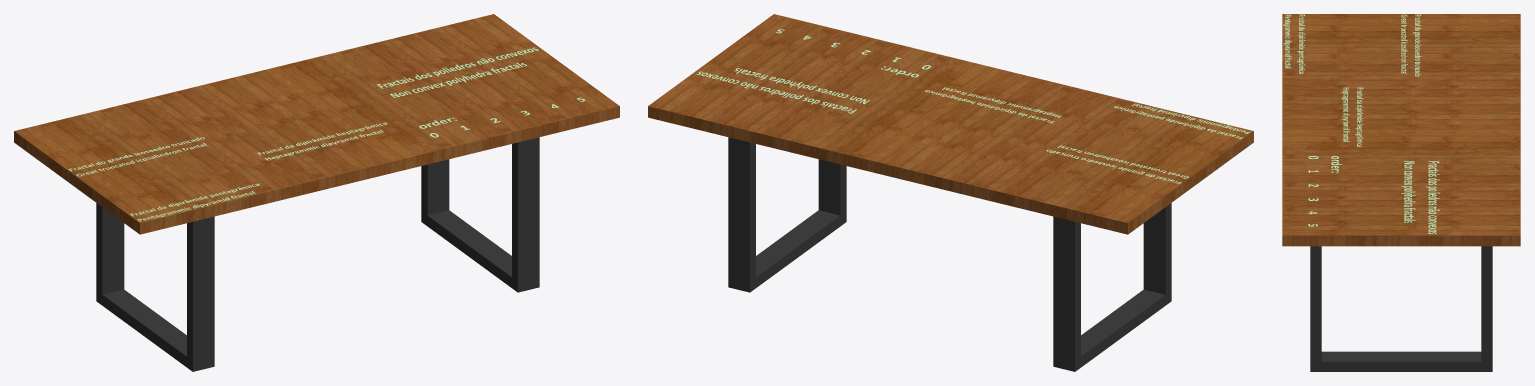
File: fractal_nonconvex5a.glb
3 views of the same model, side by side, from view 1: azimuth 30°, elevation 25°; view 2: azimuth 150°, elevation 25°; view 3: azimuth 270°, elevation 25° (orthographic). The views are drawn at different scales.
Parts seen in each view (by area): view 1: object 1, Composant#1 (×2), Fractais dos pol#1, Fractal do grand#5, Fractal da dipir#2, Fractal da dipir#1; view 2: object 1, Composant#1 (×2), Fractais dos pol#1, Fractal da dipir#1, Fractal do grand#5, Fractal da dipir#2; view 3: object 1, Composant#1, Fractais dos pol#1, Fractal do grand#5, Fractal da dipir#2, Fractal da dipir#1.
Boxes of the visible parts, <box> form: object 1: <box>14,14,619,234</box>; Composant#1 (×2): <box>96,137,539,371</box>; Fractais dos pol#1: <box>377,47,538,97</box>; Fractal do grand#5: <box>68,137,206,176</box>; Fractal da dipir#2: <box>257,122,387,160</box>; Fractal da dipir#1: <box>130,183,259,221</box>; object 1: <box>648,14,1253,234</box>; Composant#1 (×2): <box>728,137,1171,371</box>; Fractais dos pol#1: <box>696,68,869,113</box>; Fractal da dipir#1: <box>1114,103,1250,139</box>; Fractal do grand#5: <box>1046,145,1188,184</box>; Fractal da dipir#2: <box>925,87,1061,123</box>; object 1: <box>1282,14,1520,246</box>; Composant#1: <box>1310,246,1492,371</box>; Fractais dos pol#1: <box>1401,161,1439,233</box>; Fractal do grand#5: <box>1401,14,1421,76</box>; Fractal da dipir#2: <box>1341,87,1363,146</box>; Fractal da dipir#1: <box>1283,14,1305,73</box>.
Bounding box in the file's own units: 2.2 × 0.7711 × 1.
Materials: 3 (1 with a texture image).
